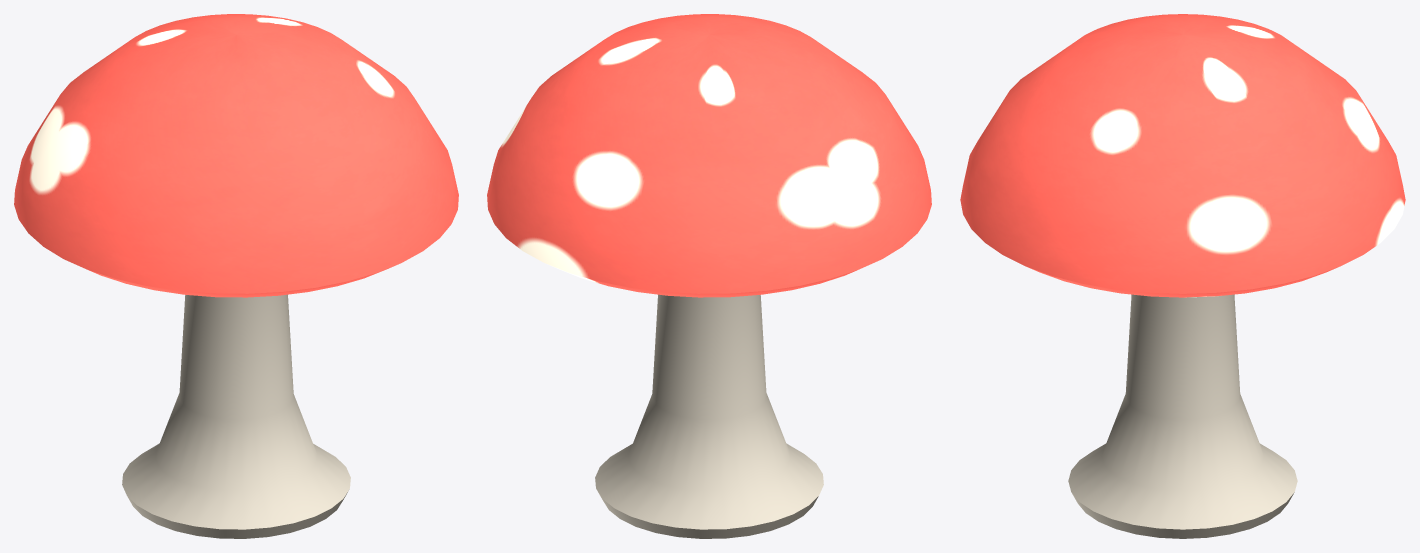
Rendered from mushroom_lamp.glb.
3 renders of one model, left to right at view 1: azimuth 30°, elevation 25°; view 2: azimuth 150°, elevation 25°; view 3: azimuth 270°, elevation 25°, orthographic.
Visible parts, largest first — view 1: model; view 2: model; view 3: model.
Part boxes in pixels (bbox=[...]): model: bbox=[14, 14, 458, 538]; model: bbox=[487, 14, 931, 538]; model: bbox=[960, 14, 1405, 538].
Size of the model in its own units: 0.66 by 0.75 by 0.66.
2 materials, 2 textured.
